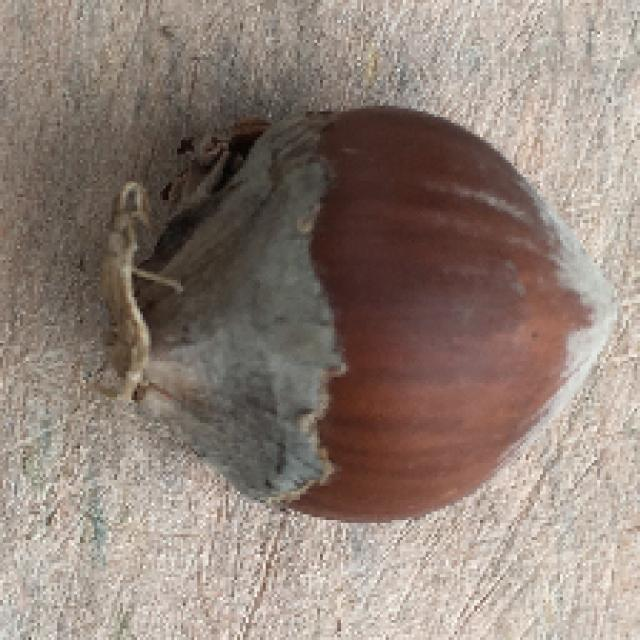damagedHazelnut: (104, 95, 634, 522)
